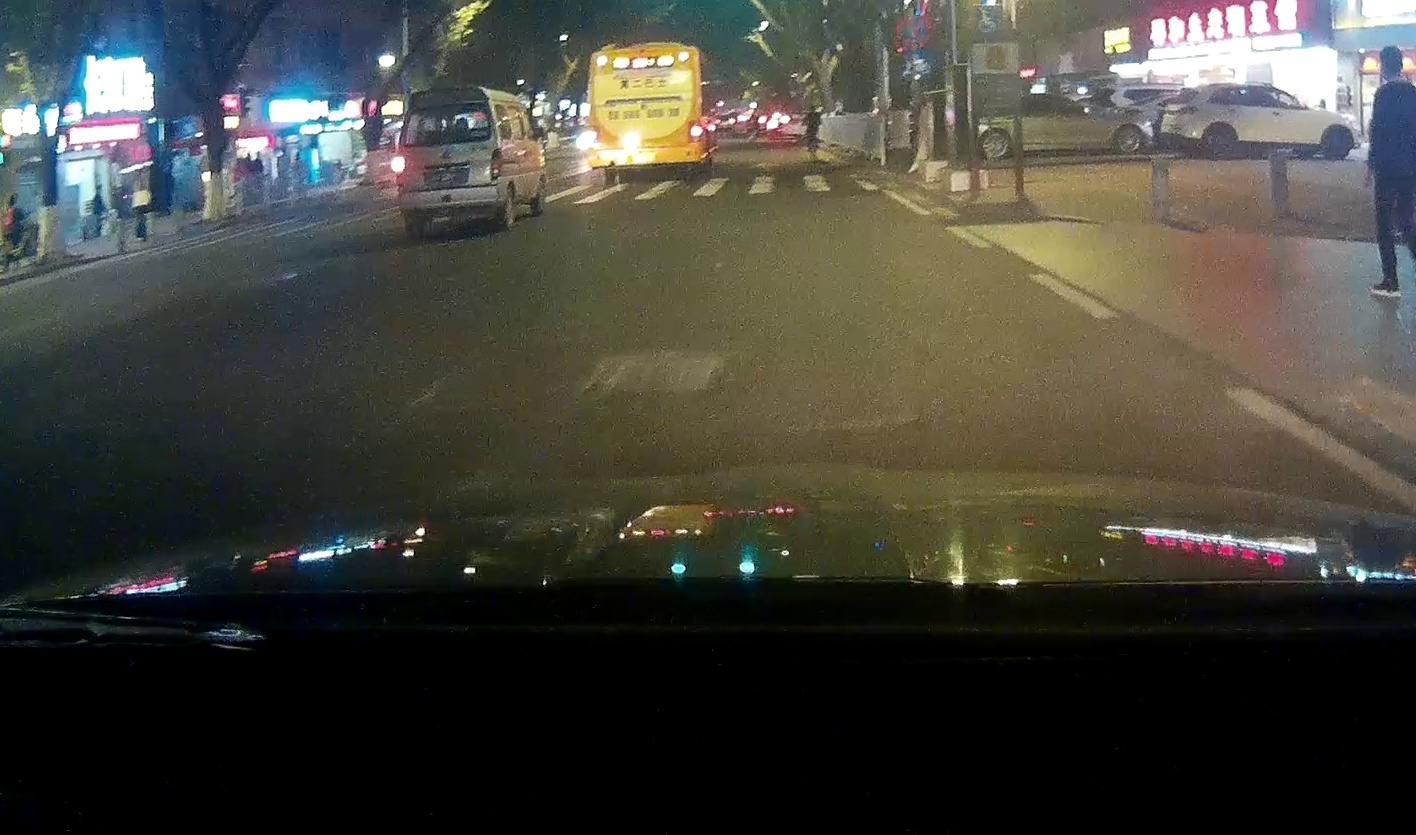L_light: (391, 154, 409, 183), (587, 126, 601, 144)
R_light: (490, 148, 504, 179), (689, 121, 704, 143)
T_light: (432, 106, 454, 114), (633, 52, 653, 56)
night-left: (389, 86, 504, 233), (585, 41, 704, 175)
